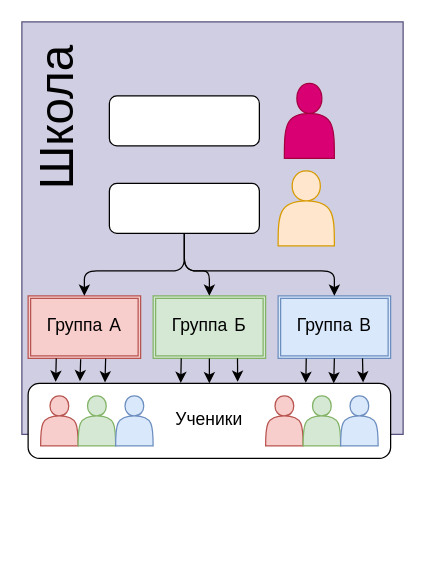
This 425x566 diagram has some shape labels left out. The shapes that lost their labels are listed below. From the top down, each one's centre as x and y in pixels, then its label:
At (x=183, y=120): "Администраторы".
At (x=183, y=207): "Преподаватели".
